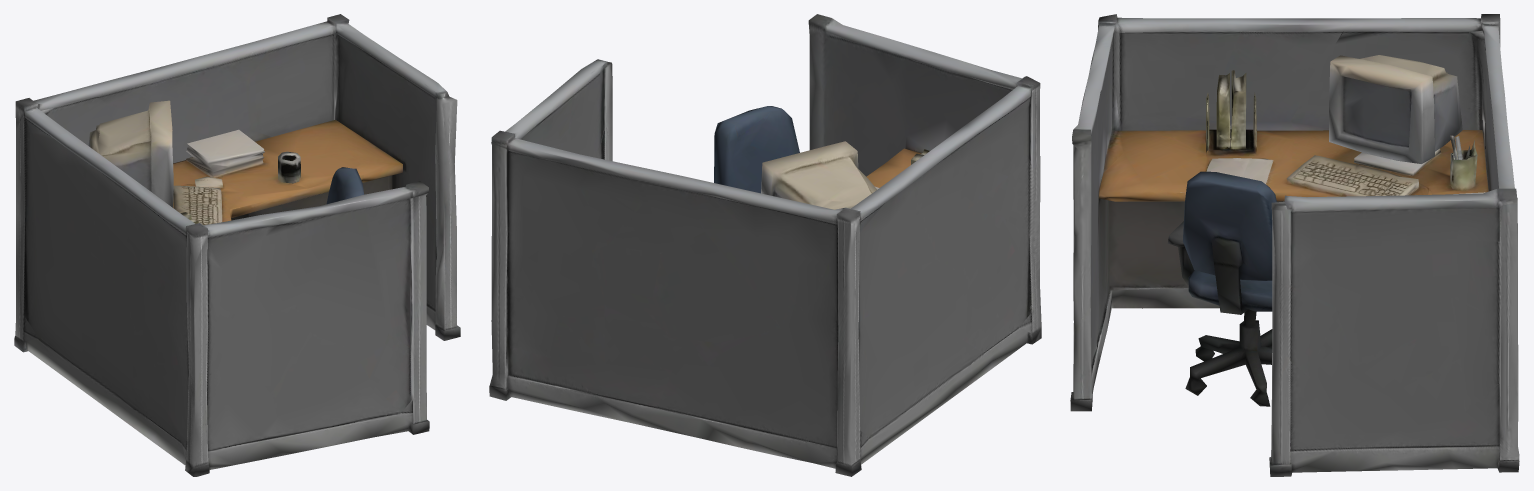
File: pillar.glb
3 views of the same model, side by side, from view 1: azimuth 30°, elevation 25°; view 2: azimuth 150°, elevation 25°; view 3: azimuth 270°, elevation 25° (orthographic). The views are drawn at different scales.
Visible parts, largest first — view 1: tripo_node_e81b3879-c58a-425e-af74-bf65a98a6270; view 2: tripo_node_e81b3879-c58a-425e-af74-bf65a98a6270; view 3: tripo_node_e81b3879-c58a-425e-af74-bf65a98a6270.
Boxes of the visible parts, x1,y1,x2,y2 form: tripo_node_e81b3879-c58a-425e-af74-bf65a98a6270: (14,14,460,476); tripo_node_e81b3879-c58a-425e-af74-bf65a98a6270: (489,14,1041,476); tripo_node_e81b3879-c58a-425e-af74-bf65a98a6270: (1070,14,1519,476).
Size of the model in its own units: 0.9951 by 0.6776 by 1.
Materials: 1 (1 with a texture image).
